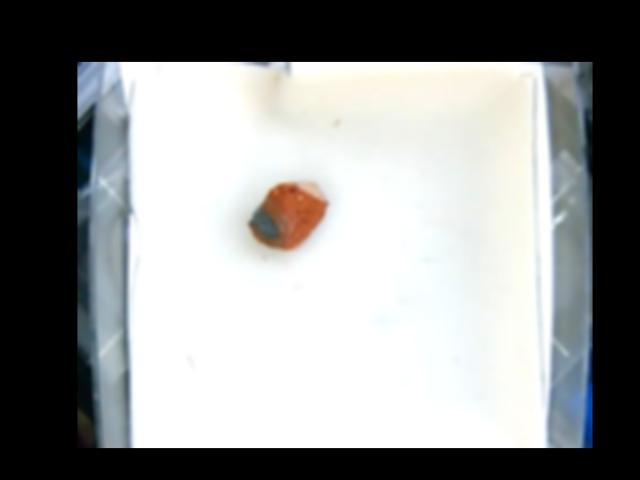Brisk: (248, 182, 326, 251)
